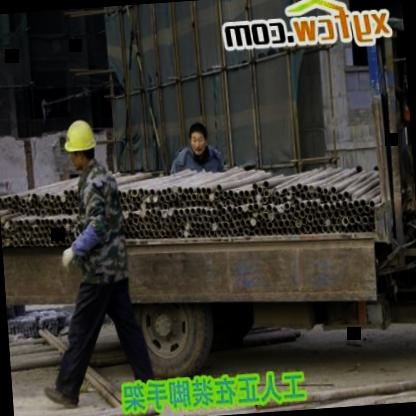head: (184, 119, 213, 159)
helmet: (60, 114, 100, 176)
